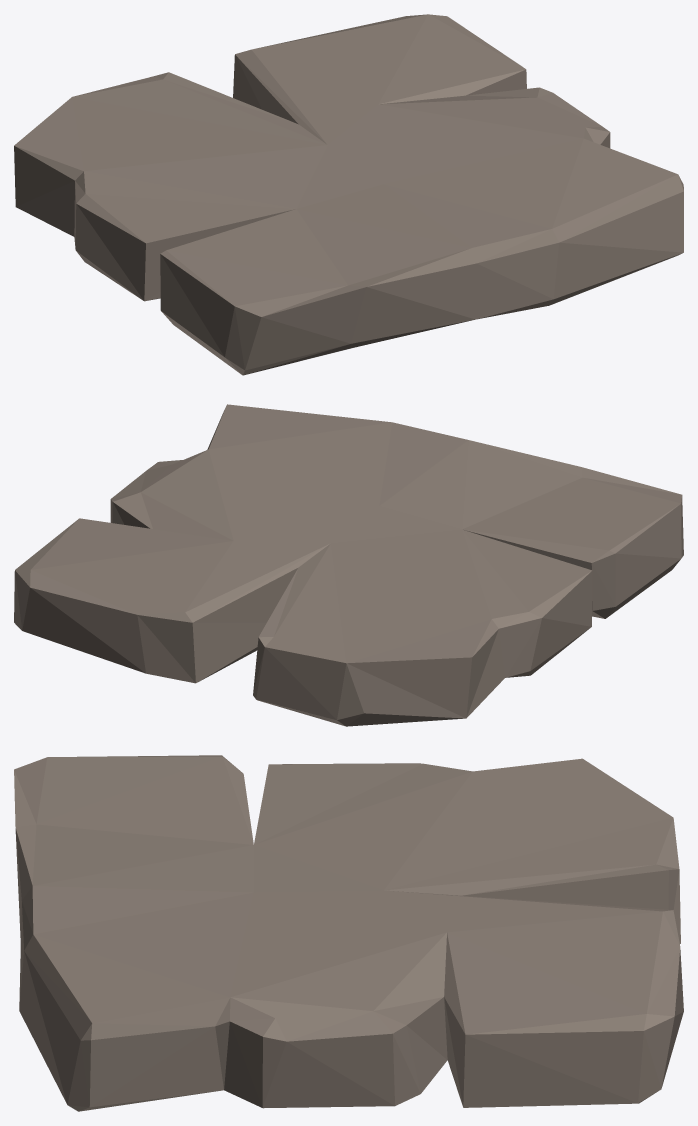
The model's file is test_Tile8.fbx.
The picture shows the model from 3 angles, top to bottom: view 1: azimuth 30°, elevation 25°; view 2: azimuth 150°, elevation 25°; view 3: azimuth 270°, elevation 25°; orthographic projection. The views are drawn at different scales.
Parts seen in each view (by area): view 1: Cube.108; view 2: Cube.108; view 3: Cube.108.
Boxes of the visible parts, left/top/right/bottom form: Cube.108: left=14, top=14, right=683, bottom=375; Cube.108: left=14, top=404, right=683, bottom=726; Cube.108: left=14, top=755, right=683, bottom=1111.
Size of the model in its own units: 206 by 33.95 by 208.
